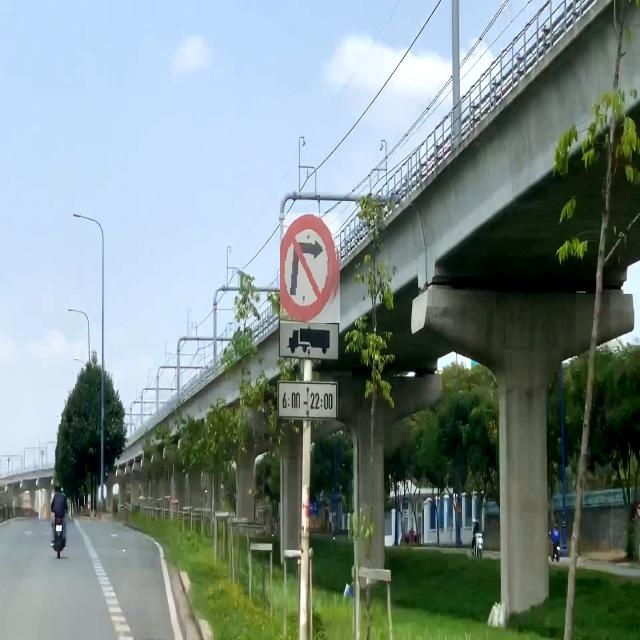bien_cam: (280, 213, 340, 323)
